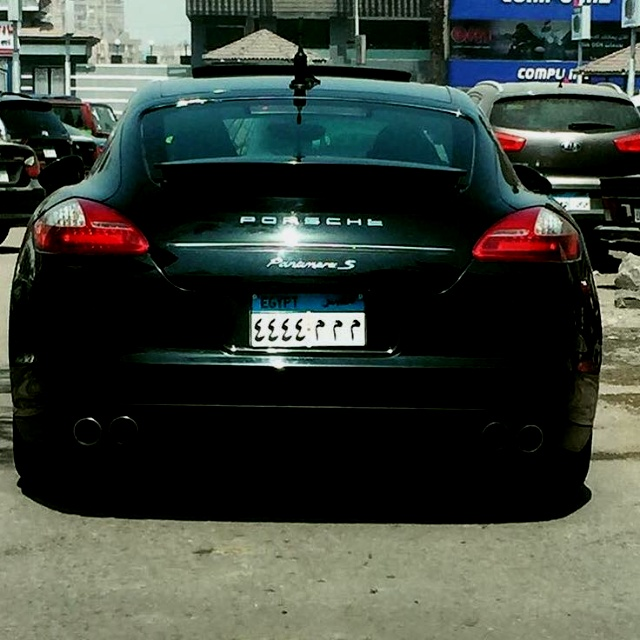License Plate: (246, 290, 370, 350)
